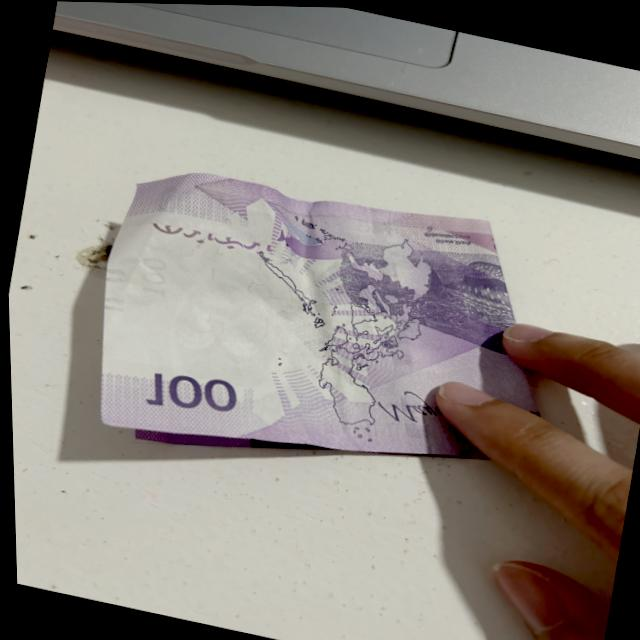100_whale: (415, 259, 516, 324)
100_whale_watermark: (269, 220, 354, 268)
value_watermark: (133, 255, 171, 298)
